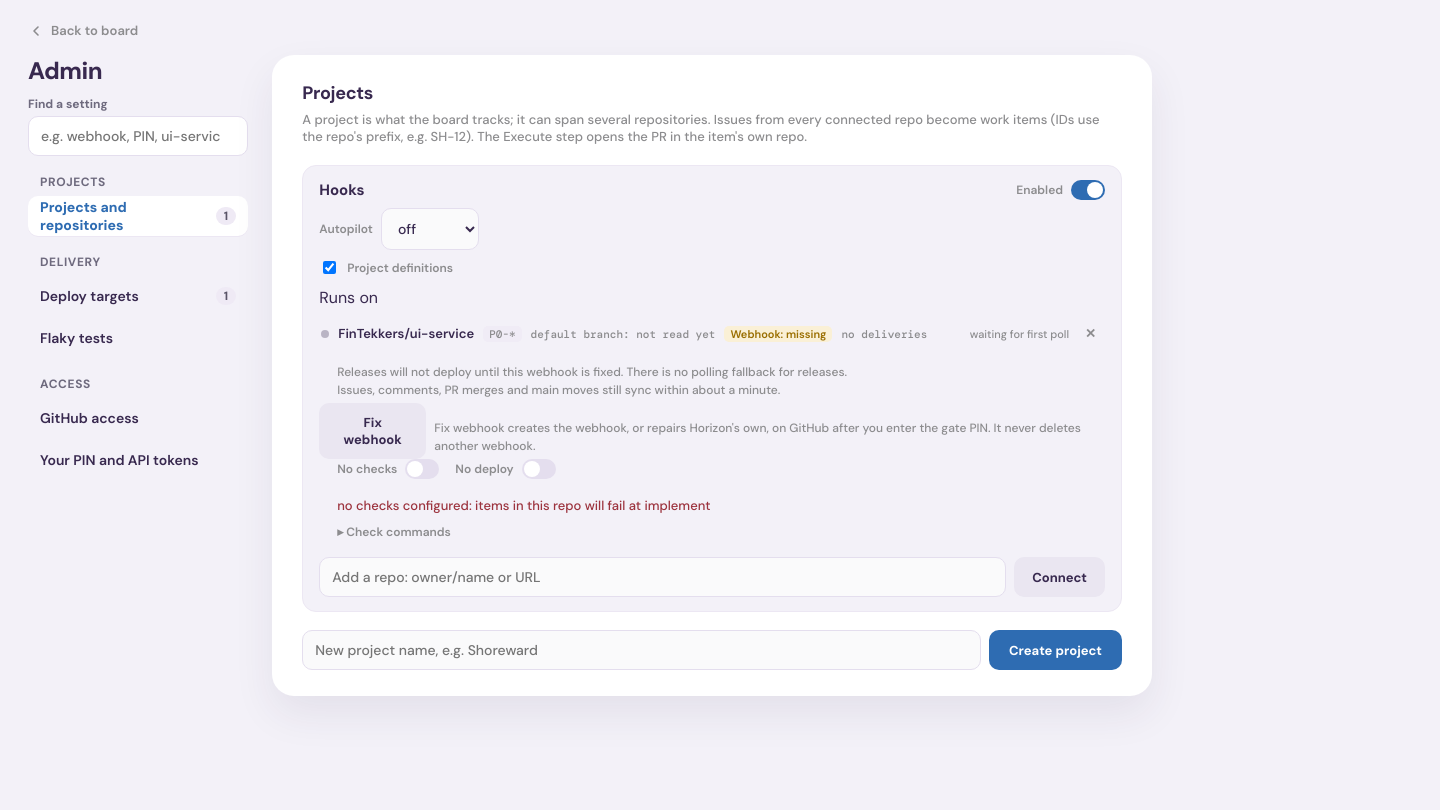
Test: fixing the webhook with the PIN clears all the impact text once it reads ok
This screenshot has width=1440, height=810.
Expected: the text "Releases will not deploy until this webhook is fixed. There is no polling fallback for releases." is shown, [337,364,847,380]
Click the button "Fix webhook" at [373, 431], box [319,403,426,459]
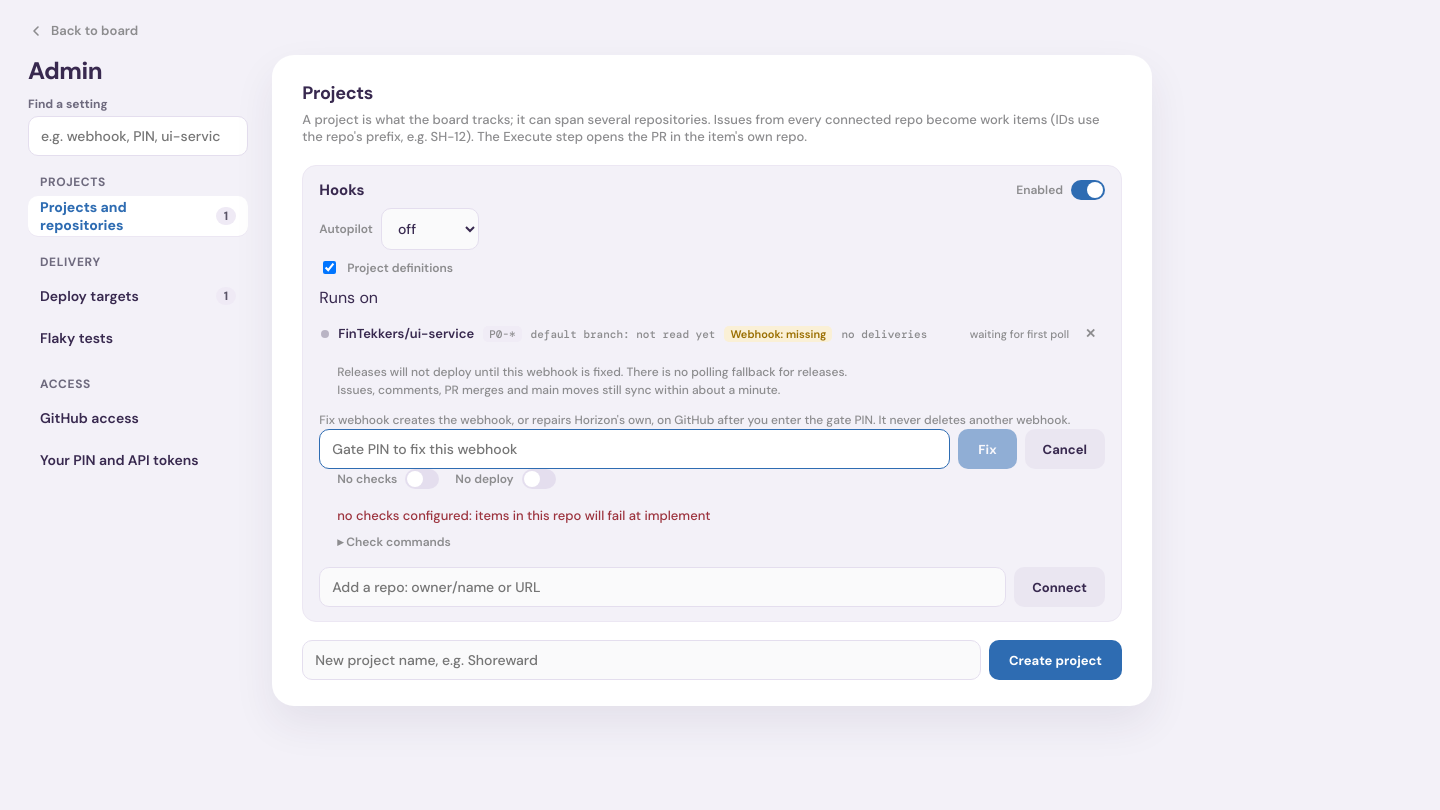
Type "right-pin" into the password field named "Gate PIN to fix the FinTekkers/ui-service webhook" at [635, 449], box [319,429,950,469]
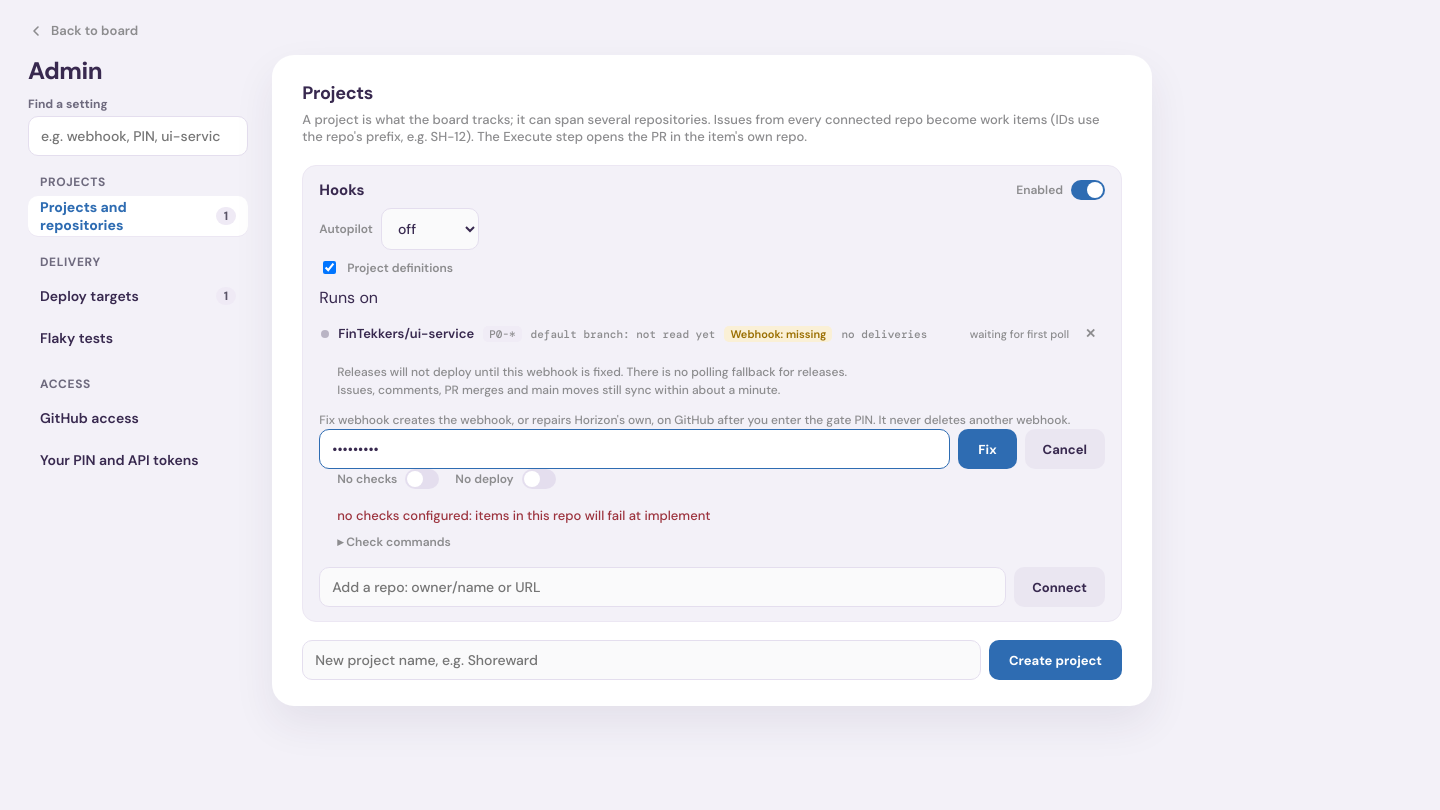
Click the button "Fix" at [988, 449], box [958,429,1017,469]
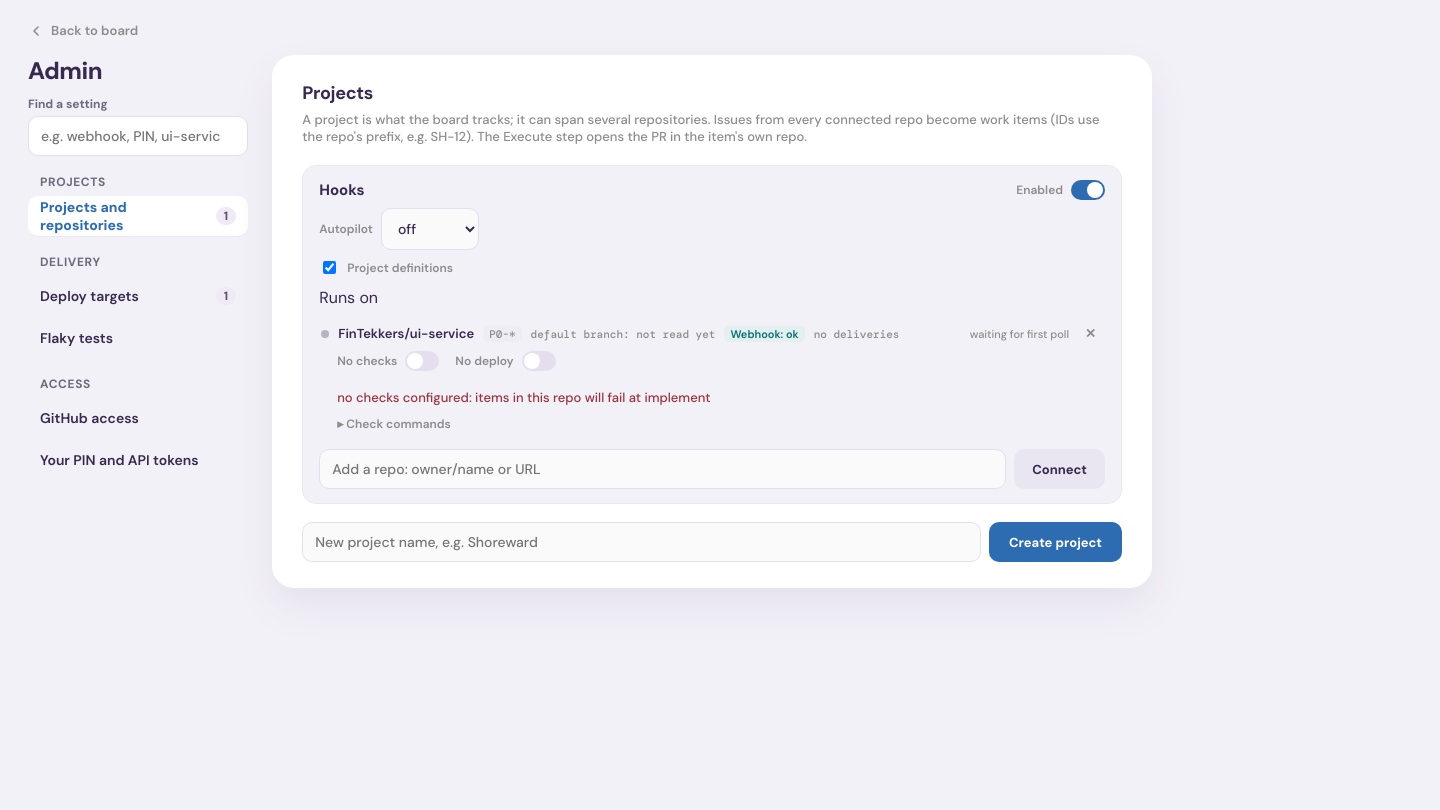
Now the text "Webhook: ok" is shown, box [724,326,805,342]
Now the text "Releases will not deploy until this webhook is fixed. There is no polling fallback for releases." is gone
Now the text "Issues, comments, PR merges and main moves still sync within about a minute." is gone
